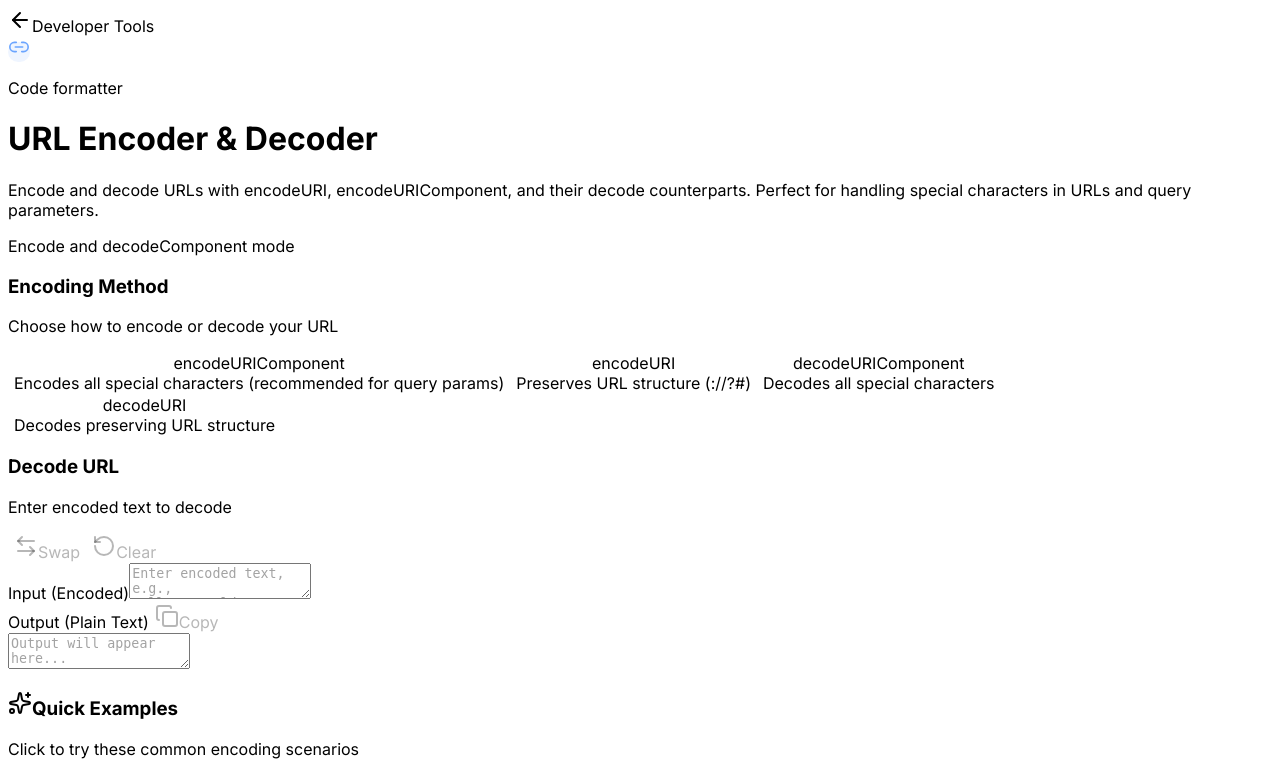
Scenario: URLEncoderPage › Decoding › decodes encoded text with decodeURIComponent
In the text box labelled "Input (Encoded)": {"x": 220, "y": 581} [129,563,311,599], type "Hello%20World%21"
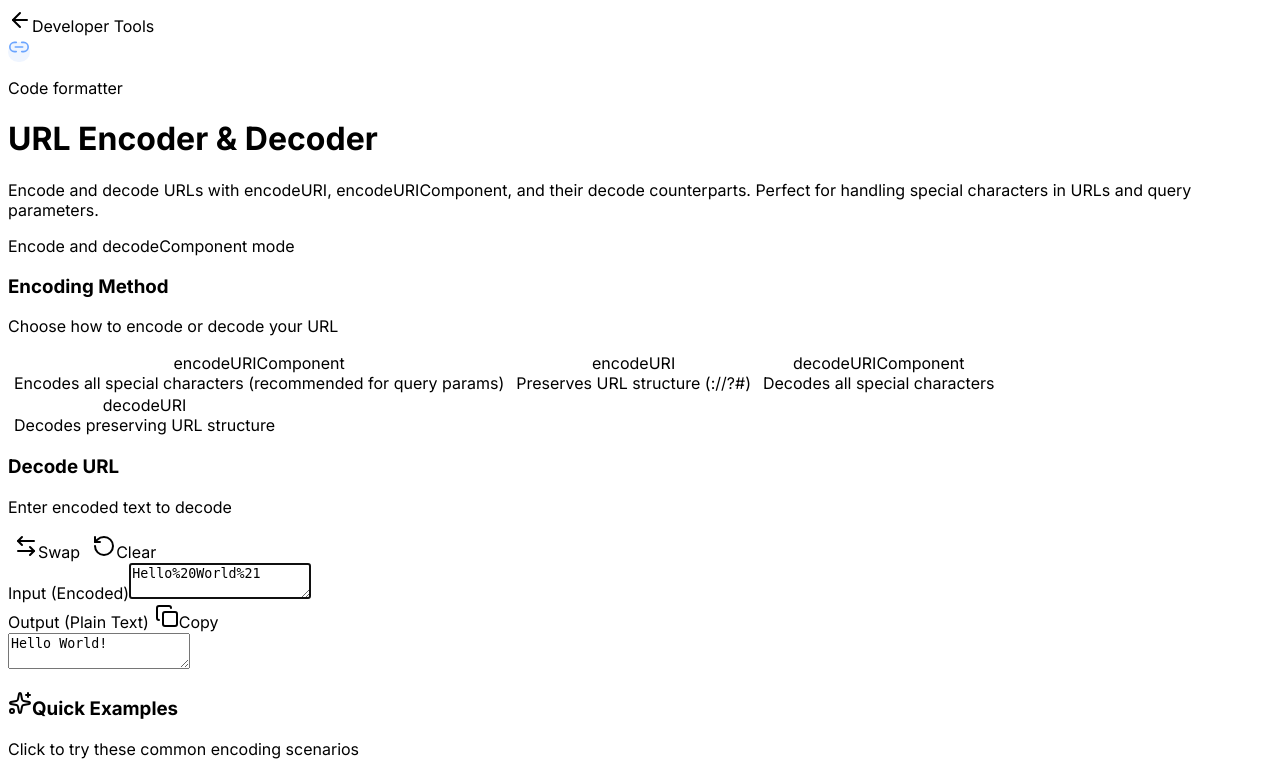
Check: the text box labelled "Output (Plain Text)" holds "Hello World!", box [8,633,190,669]
